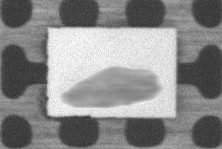DIE_INK: (59, 66, 162, 112)
